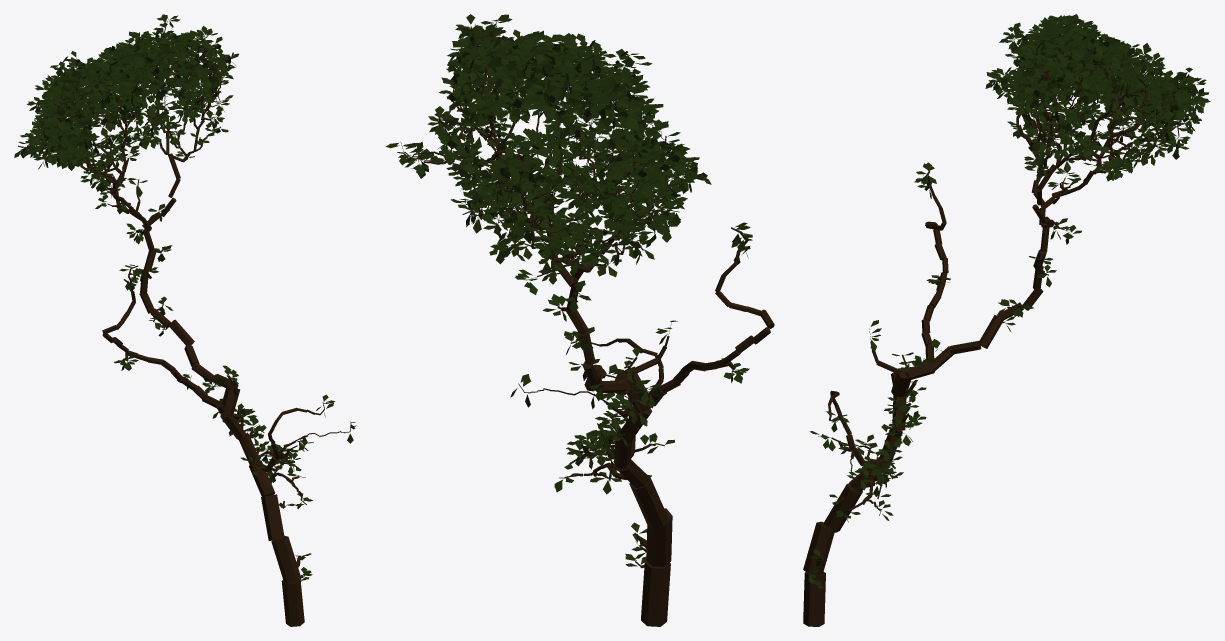
The model's file is tree_169.obj.
3 renders of one model, left to right at view 1: azimuth 30°, elevation 25°; view 2: azimuth 150°, elevation 25°; view 3: azimuth 270°, elevation 25°, orthographic. The views are drawn at different scales.
Parts seen in each view (by area): view 1: Leaves, TrunkAndBranches; view 2: Leaves, TrunkAndBranches; view 3: Leaves, TrunkAndBranches.
Part boxes in pixels (left/top/right/bottom): Leaves: left=14, top=14, right=356, bottom=580; TrunkAndBranches: left=21, top=19, right=350, bottom=626; Leaves: left=385, top=14, right=752, bottom=566; TrunkAndBranches: left=400, top=19, right=774, bottom=626; Leaves: left=807, top=14, right=1210, bottom=588; TrunkAndBranches: left=803, top=23, right=1198, bottom=626.
Size of the model in its own units: 6.69 by 14.77 by 9.42.
